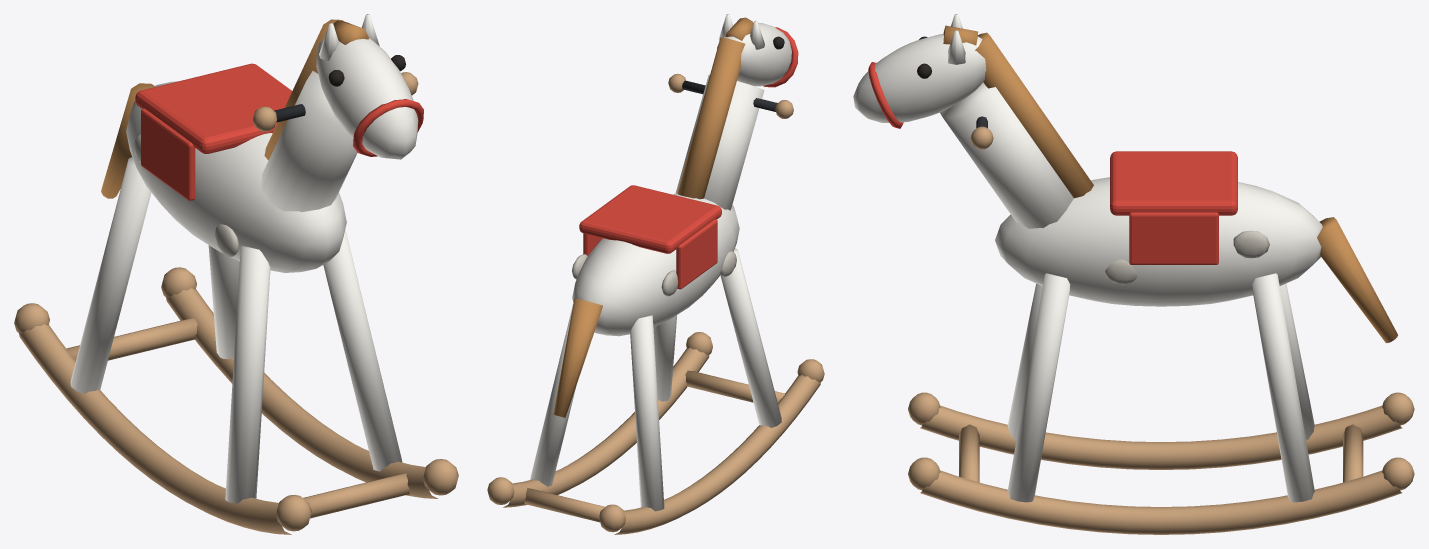
The model's file is rockingHorse.glb.
3 renders of one model, left to right at view 1: azimuth 30°, elevation 25°; view 2: azimuth 150°, elevation 25°; view 3: azimuth 270°, elevation 25°, orthographic. The views are drawn at different scales.
Parts seen in each view (by area): view 1: horse; view 2: horse; view 3: horse.
Part boxes in pixels (<box>): horse: <box>14,14,458,534</box>; horse: <box>487,14,824,534</box>; horse: <box>853,14,1414,534</box>.
Size of the model in its own units: 0.2895 by 0.8239 by 0.8773.
